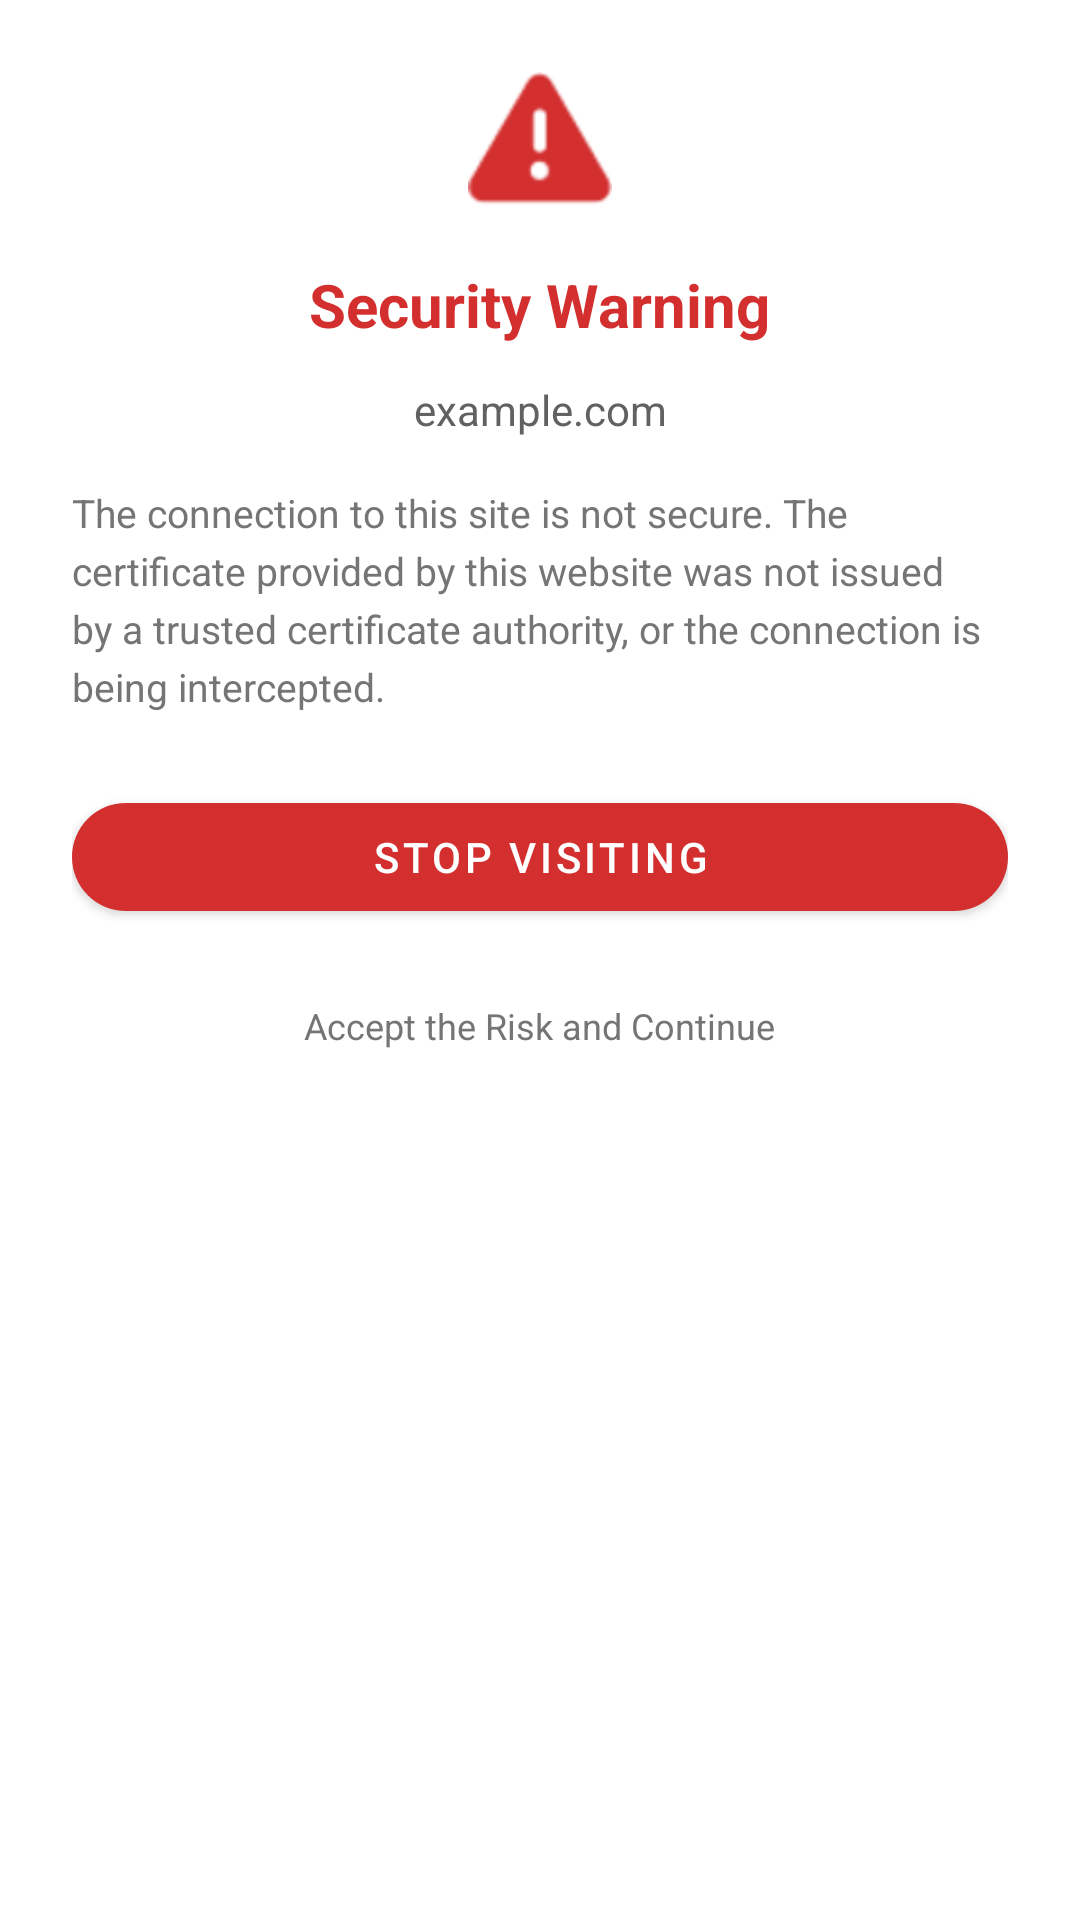

Where to tap for icons on this 1080 × 1920 app screen, as (x=x, y=y):
alert: (x=540, y=137)
